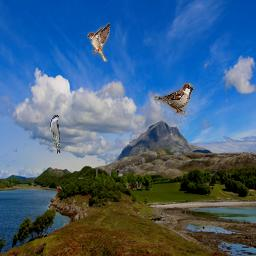Sparrow: (154, 83, 194, 115), (87, 22, 110, 62)
Swallow: (50, 114, 61, 154)
